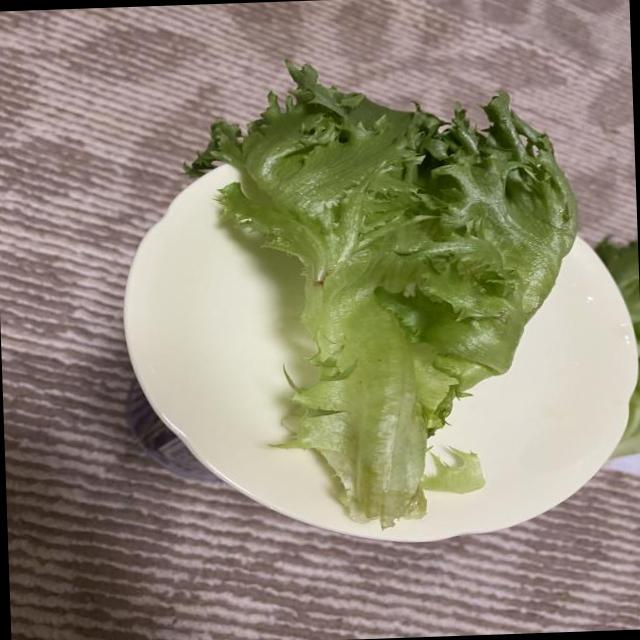Lettuce-Ready-to-Harvest: (186, 62, 577, 525)
